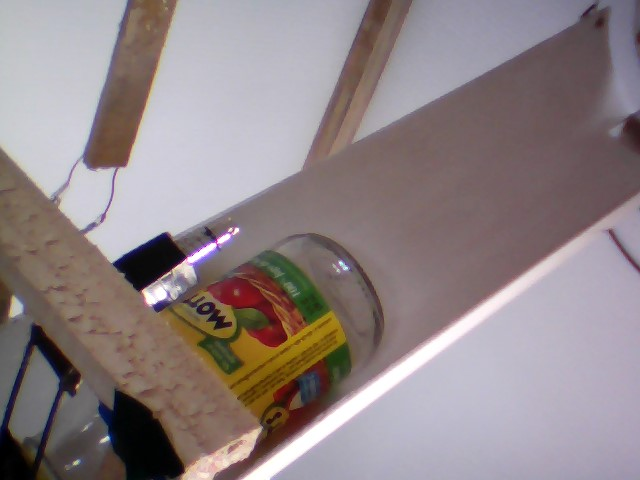vidrio: (191, 224, 392, 451)
